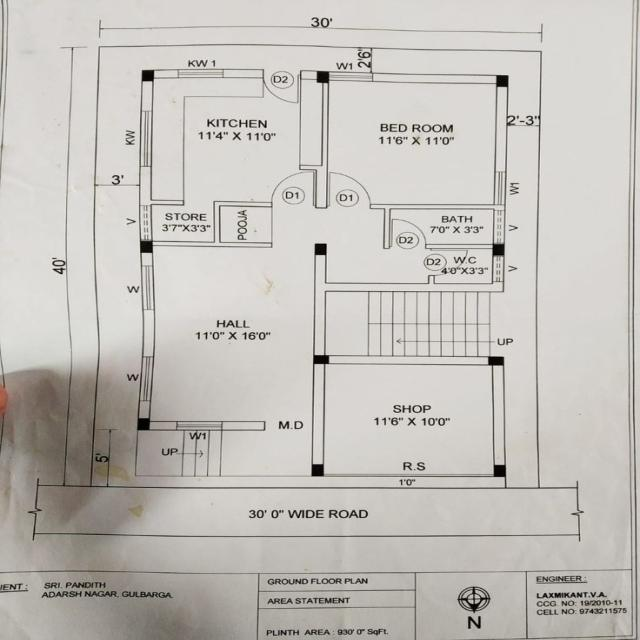Blueprint: (125, 57, 524, 486)
column: (134, 236, 160, 257), (488, 72, 513, 93), (485, 240, 511, 260), (489, 460, 512, 480), (307, 351, 334, 368), (482, 354, 508, 370), (314, 68, 335, 87), (309, 240, 331, 258), (138, 67, 158, 85), (134, 415, 154, 433), (309, 462, 327, 478)
wall: (326, 282, 504, 292), (329, 355, 489, 366), (372, 72, 497, 84), (492, 365, 507, 465), (299, 165, 328, 209), (314, 255, 326, 355), (494, 86, 507, 172), (313, 364, 324, 464), (152, 240, 274, 248), (369, 204, 507, 209), (142, 309, 155, 356), (321, 84, 328, 166), (139, 167, 153, 206), (425, 243, 493, 250), (222, 421, 266, 431), (141, 80, 154, 112), (223, 69, 264, 78), (213, 204, 221, 242), (384, 208, 391, 249), (150, 420, 177, 430), (138, 400, 152, 419), (212, 202, 272, 206), (140, 252, 154, 267), (154, 70, 180, 78), (300, 70, 318, 80)
